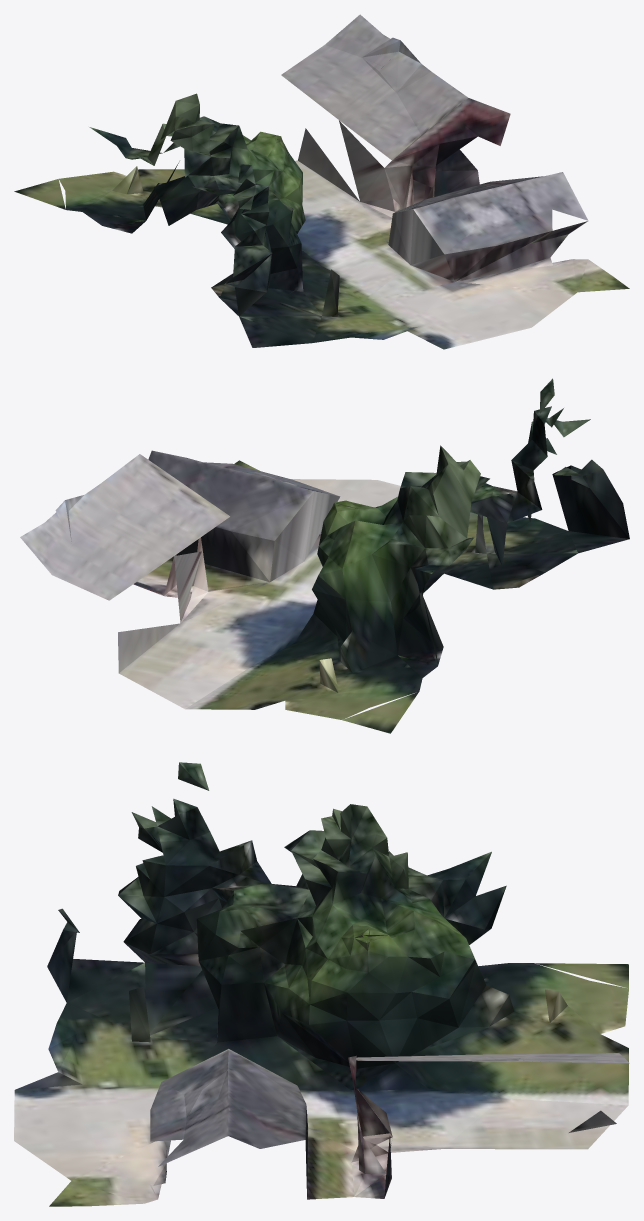
Rendered from Tile_+000_+008_L17_00.glb.
The picture shows the model from 3 angles, top to bottom: view 1: azimuth 30°, elevation 25°; view 2: azimuth 150°, elevation 25°; view 3: azimuth 270°, elevation 25°; orthographic projection. The views are drawn at different scales.
Bounding box in the file's own units: 48.5 × 24.94 × 55.31.
1 material, 1 textured.
